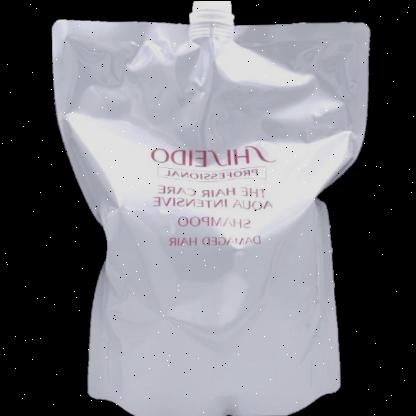Others: (50, 1, 372, 415)
